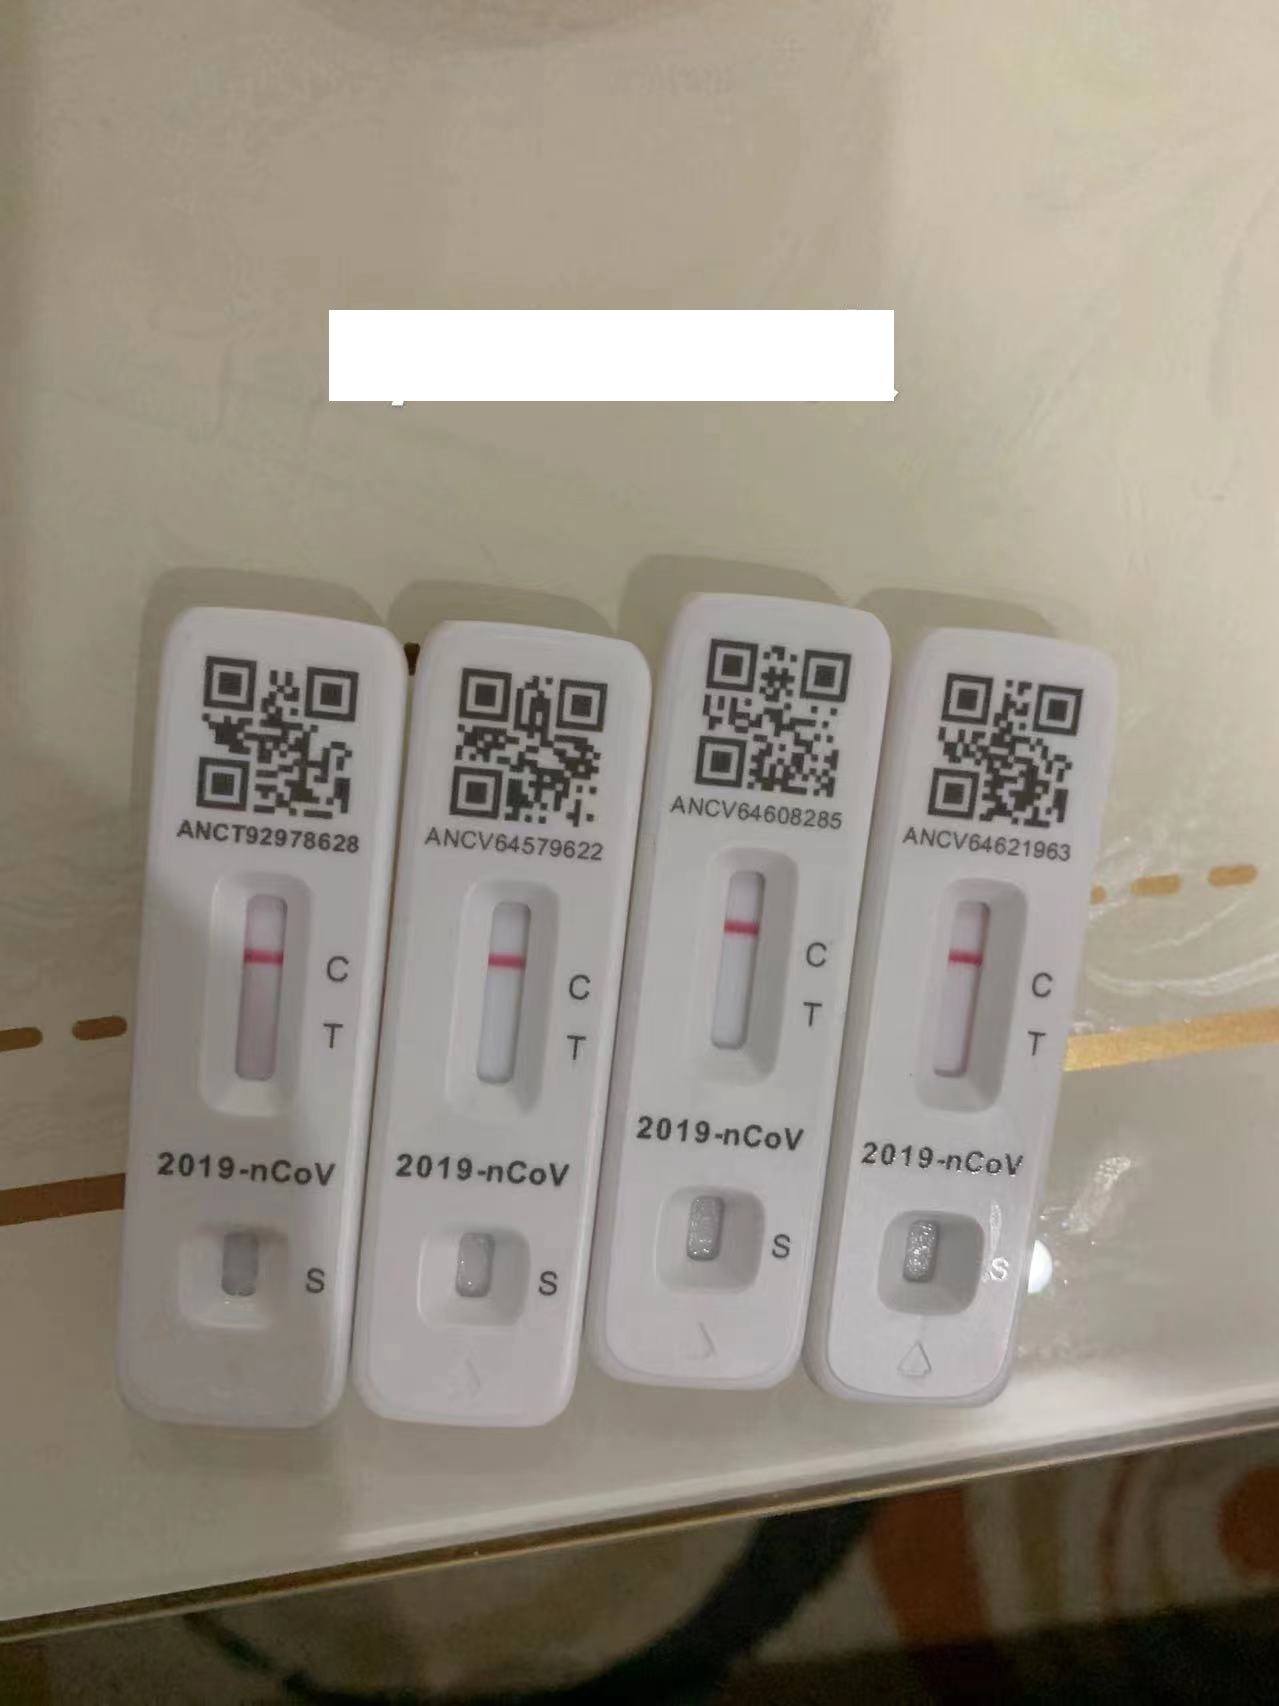negative: (919, 879, 1026, 1100), (208, 866, 308, 1106), (454, 880, 556, 1100), (697, 850, 793, 1071)
